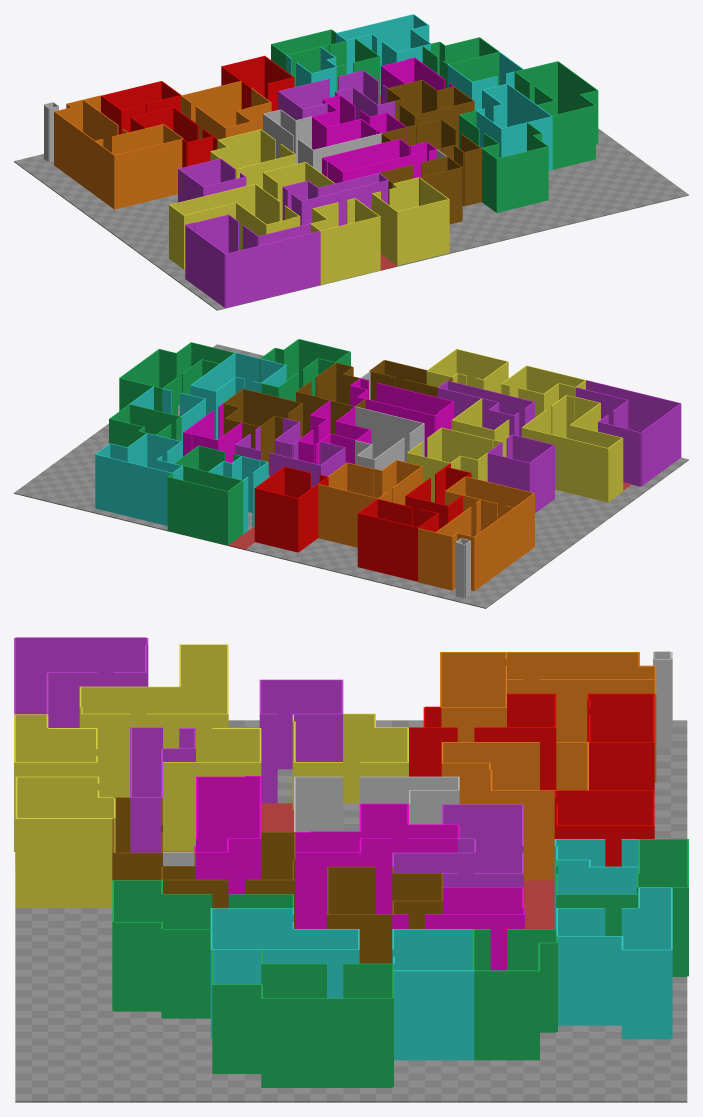
The model's file is LevelDesign test_ludwig.obj.
3 renders of one model, top to bottom at view 1: azimuth 30°, elevation 25°; view 2: azimuth 150°, elevation 25°; view 3: azimuth 270°, elevation 25°, orthographic. The views are drawn at different scales.
Parts seen in each view (by area): view 1: mergedBlocks; view 2: mergedBlocks; view 3: mergedBlocks.
Part boxes in pixels (<box>): mergedBlocks: <box>14,14,688,310</box>; mergedBlocks: <box>14,339,688,608</box>; mergedBlocks: <box>14,637,688,1102</box>.
Bounding box in the file's own units: 55 × 6.1 × 41.2.
